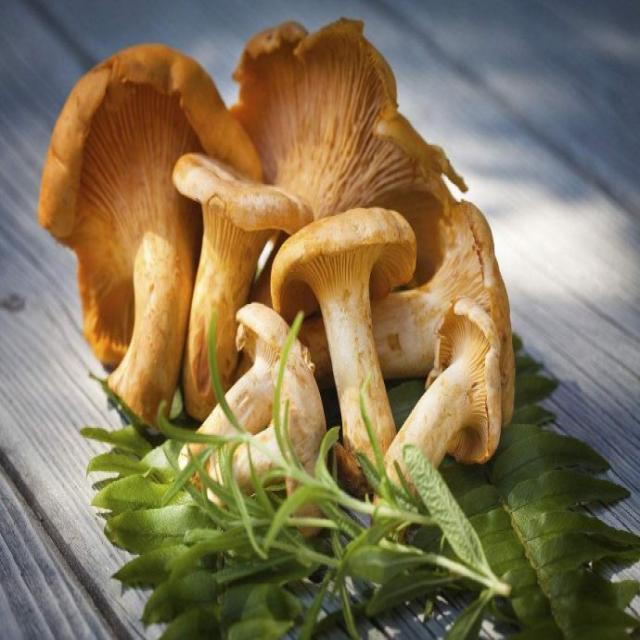Cantharellus cibarius: (39, 48, 259, 417), (229, 24, 458, 260), (323, 202, 518, 429), (275, 209, 416, 468), (174, 151, 304, 422), (386, 302, 503, 532), (189, 303, 327, 496)
